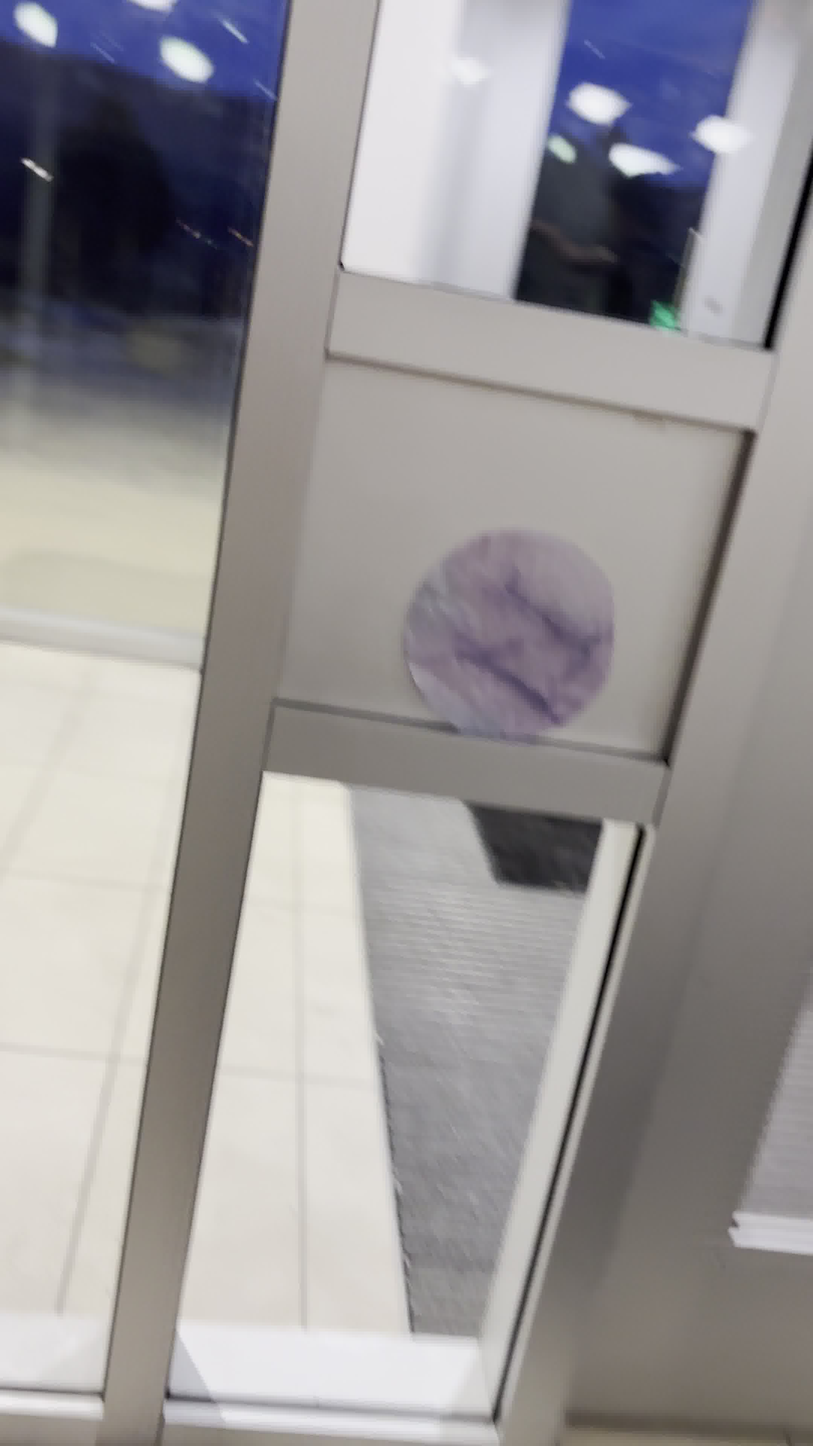Target: (400, 525, 620, 747)
